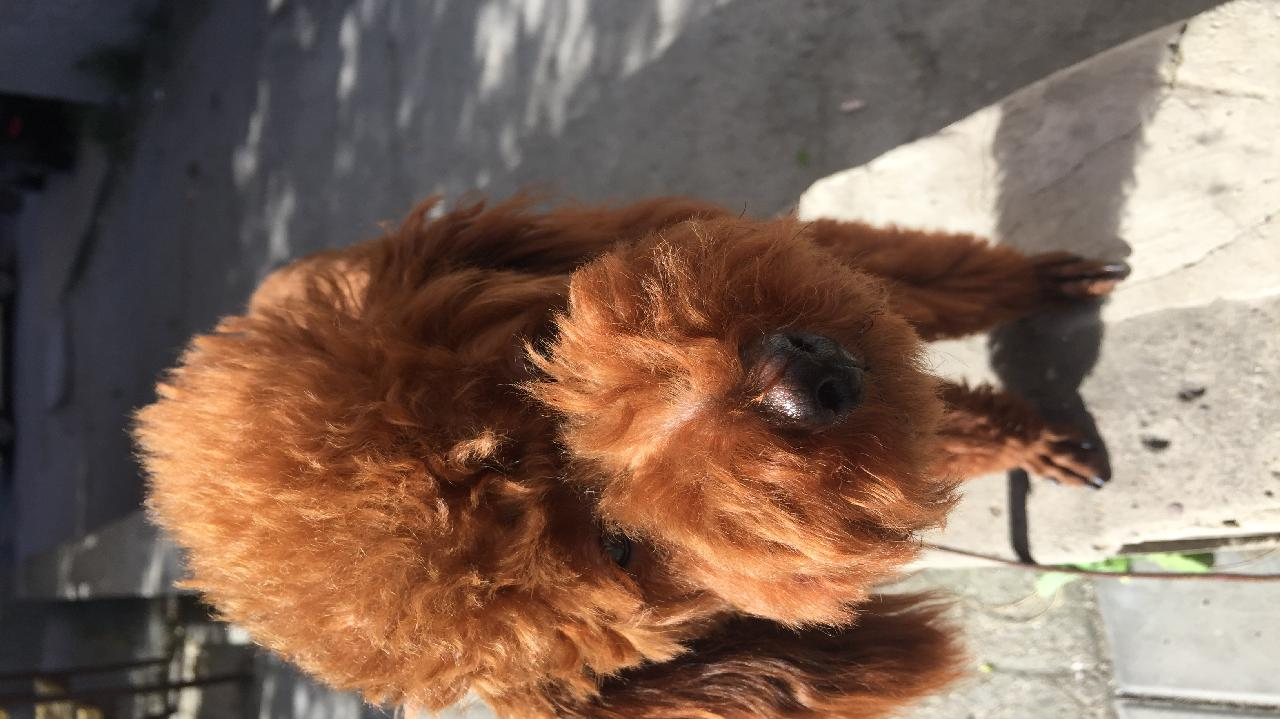coin: (133, 234, 1137, 718)
